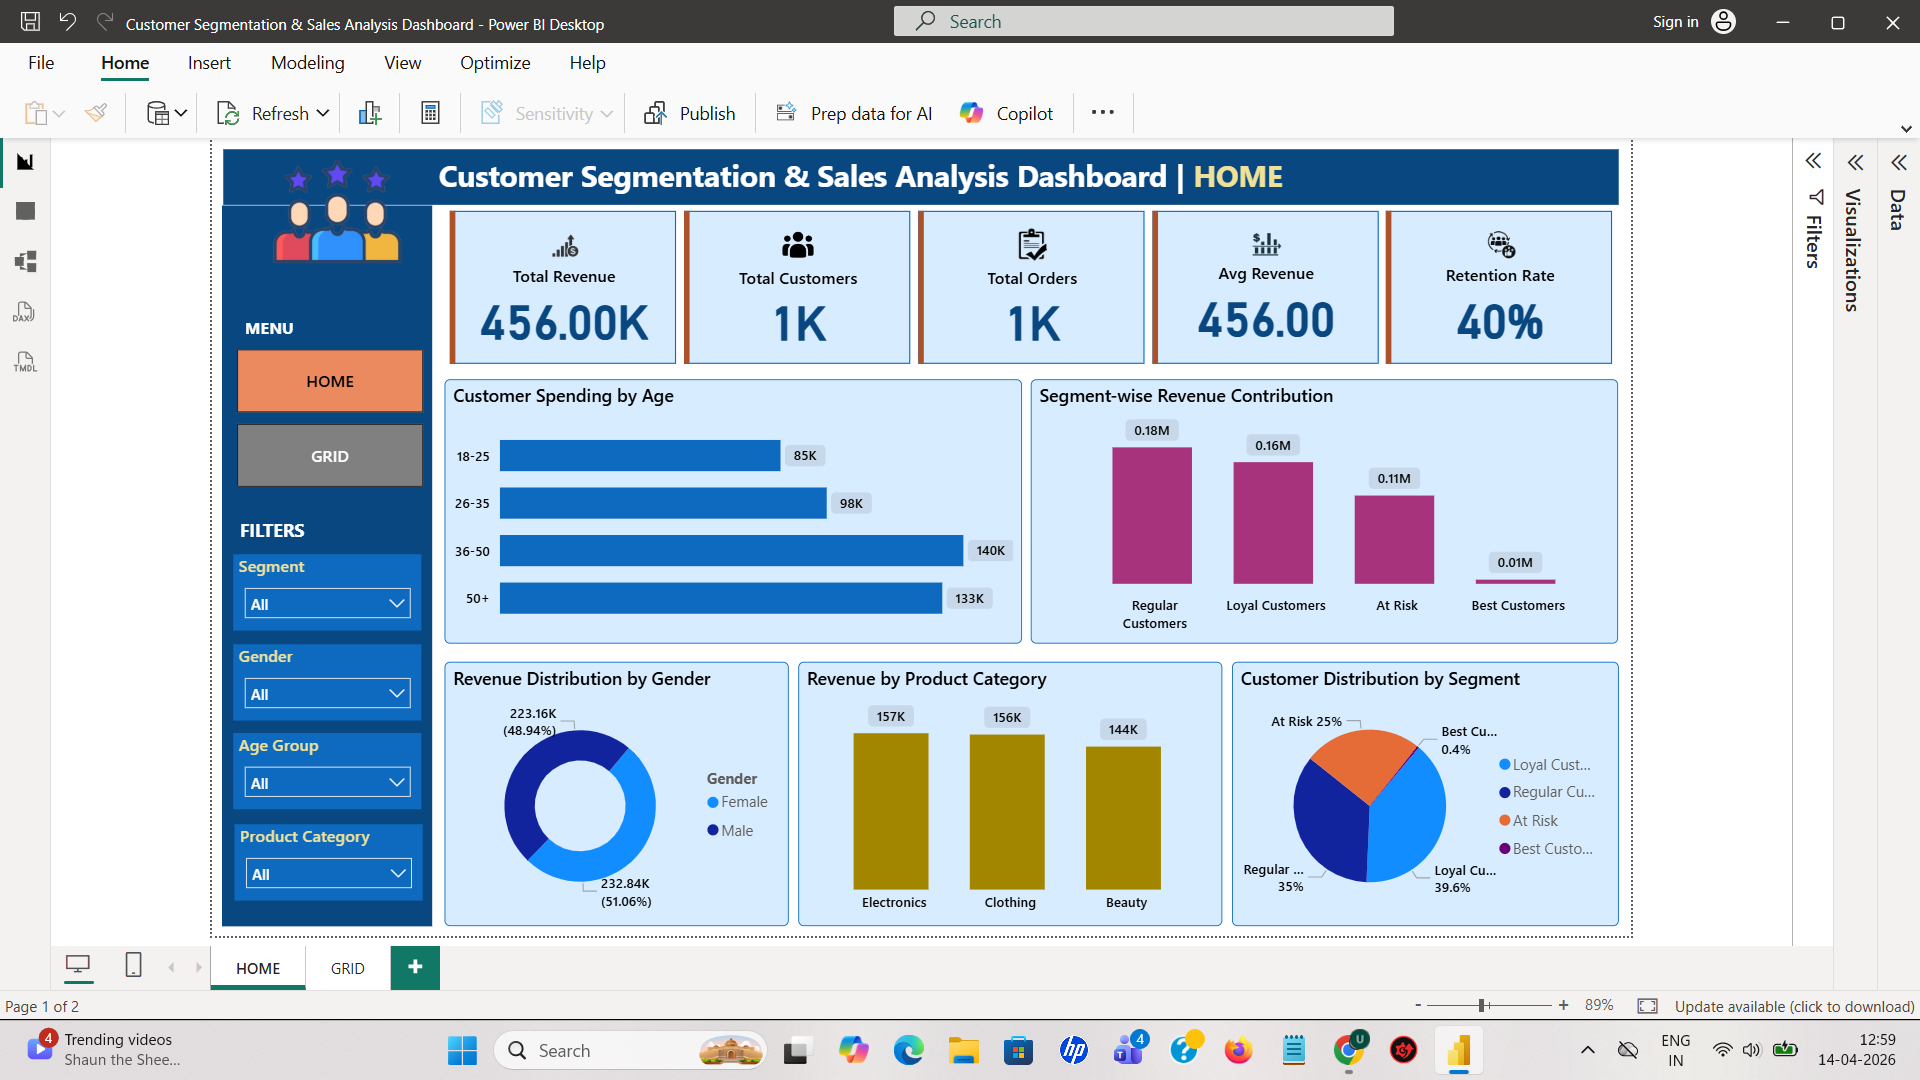

The dashboard page shown, as its layout file describes it:
{"tool":"powerbi","page":{"name":"HOME","canvas":[1280,720],"ordinal":0},"visuals":[{"type":"shape","box":[9.8,9.8,1258.3,50.1],"z":0},{"type":"shape","box":[9.3,60.5,189.5,650],"z":1000},{"type":"cardVisual","fields":{"Data":["retail_sales_dataset.Total Revenue","retail_sales_dataset.Total Customers","retail_sales_dataset.Total Orders","retail_sales_dataset.Avg Revenue","rfm_output.Retention Rate"]},"box":[209.3,60.5,1059.3,148.8],"z":2000},{"type":"textbox","box":[199.3,9.8,915.9,48.9],"z":3000},{"type":"pieChart","title":"Customer Distribution by Segment","fields":{"Category":["rfm_output.Segment"],"Y":["CountNonNull(retail_sales_dataset.Customer ID)"]},"box":[919.6,472,348.5,238.5],"z":4000},{"type":"columnChart","title":"Segment-wise Revenue Contribution","fields":{"Category":["rfm_output.Segment"],"Y":["retail_sales_dataset.Total Revenue"]},"box":[738.6,217.7,529.5,238.5],"z":5000},{"type":"donutChart","title":"Revenue Distribution by Gender","fields":{"Category":["retail_sales_dataset.Gender"],"Y":["retail_sales_dataset.Total Revenue"]},"box":[209.1,472,310.6,238.5],"z":6000},{"type":"barChart","title":"Customer Spending by Age","fields":{"Category":["retail_sales_dataset.Age_Group"],"Y":["retail_sales_dataset.Total Revenue"]},"box":[209.1,217.7,520.9,238.5],"z":7000},{"type":"columnChart","title":"Revenue by Product Category","fields":{"Category":["retail_sales_dataset.Product Category"],"Y":["retail_sales_dataset.Total Revenue"]},"box":[528.3,472,382.7,238.5],"z":8000},{"type":"slicer","title":"Segment","fields":{"Values":["rfm_output.Segment"]},"box":[19.6,375.4,170,68.5],"z":9000},{"type":"slicer","title":"Gender","fields":{"Values":["retail_sales_dataset.Gender"]},"box":[19.6,456.1,170,68.5],"z":10000},{"type":"slicer","title":"Age Group","fields":{"Values":["retail_sales_dataset.Age_Group"]},"box":[19.6,536.8,170,68.5],"z":11000},{"type":"slicer","title":"Product Category","fields":{"Values":["retail_sales_dataset.Product Category"]},"box":[20.8,618.8,170,68.5],"z":12000},{"type":"image","box":[50.1,3.7,127.2,130.8],"z":13000},{"type":"pageNavigator","box":[22,190.8,168.8,126],"z":14000},{"type":"textbox","box":[9.8,155.3,77,35.5],"z":15000},{"type":"textbox","box":[20.8,337.5,77,35.5],"z":16000}]}

Visuals, with their boxes on the page's 1280x720 design canvas (x1, y1, x2, y2). These are canvas units, not pixel positions in the 1920x1080 screenshot, which may show the page scaled, cropped or inside an application window:
shape: (10, 10, 1268, 60)
shape: (9, 60, 199, 710)
cardVisual - retail_sales_dataset.Total Revenue x retail_sales_dataset.Total Customers: (209, 60, 1269, 209)
textbox: (199, 10, 1115, 59)
"Customer Distribution by Segment" pieChart: (920, 472, 1268, 710)
"Segment-wise Revenue Contribution" columnChart: (739, 218, 1268, 456)
"Revenue Distribution by Gender" donutChart: (209, 472, 520, 710)
"Customer Spending by Age" barChart: (209, 218, 730, 456)
"Revenue by Product Category" columnChart: (528, 472, 911, 710)
"Segment" slicer: (20, 375, 190, 444)
"Gender" slicer: (20, 456, 190, 525)
"Age Group" slicer: (20, 537, 190, 605)
"Product Category" slicer: (21, 619, 191, 687)
image: (50, 4, 177, 134)
pageNavigator: (22, 191, 191, 317)
textbox: (10, 155, 87, 191)
textbox: (21, 338, 98, 373)
